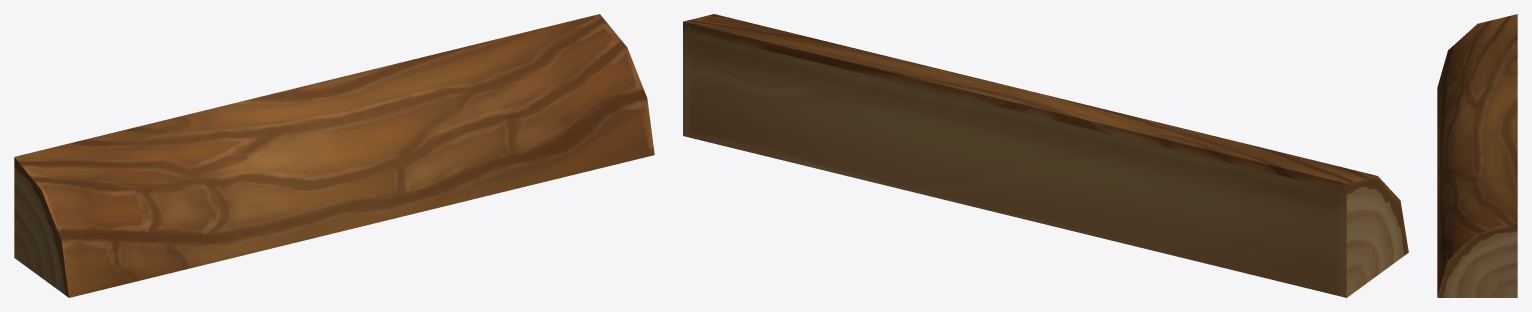
File: Log_3.FBX
3 views of the same model, side by side, from view 1: azimuth 30°, elevation 25°; view 2: azimuth 150°, elevation 25°; view 3: azimuth 270°, elevation 25° (orthographic). The views are drawn at different scales.
Parts seen in each view (by area): view 1: Log_3; view 2: Log_3; view 3: Log_3.
Boxes of the visible parts, x1,y1,x2,y2 form: Log_3: [14, 14, 654, 297]; Log_3: [683, 14, 1408, 297]; Log_3: [1437, 14, 1517, 297].
Size of what is drawn, in the model's own units: 185 by 30 by 30.48.
